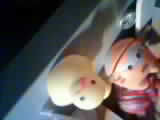duck: (35, 37, 119, 115)
